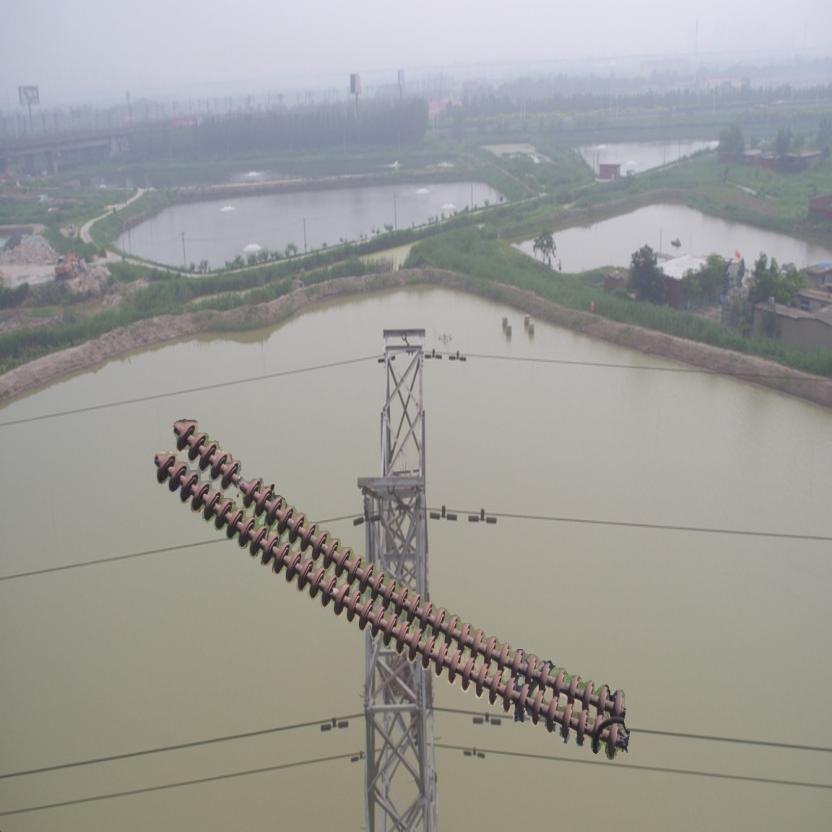defect: (219, 456, 262, 508)
